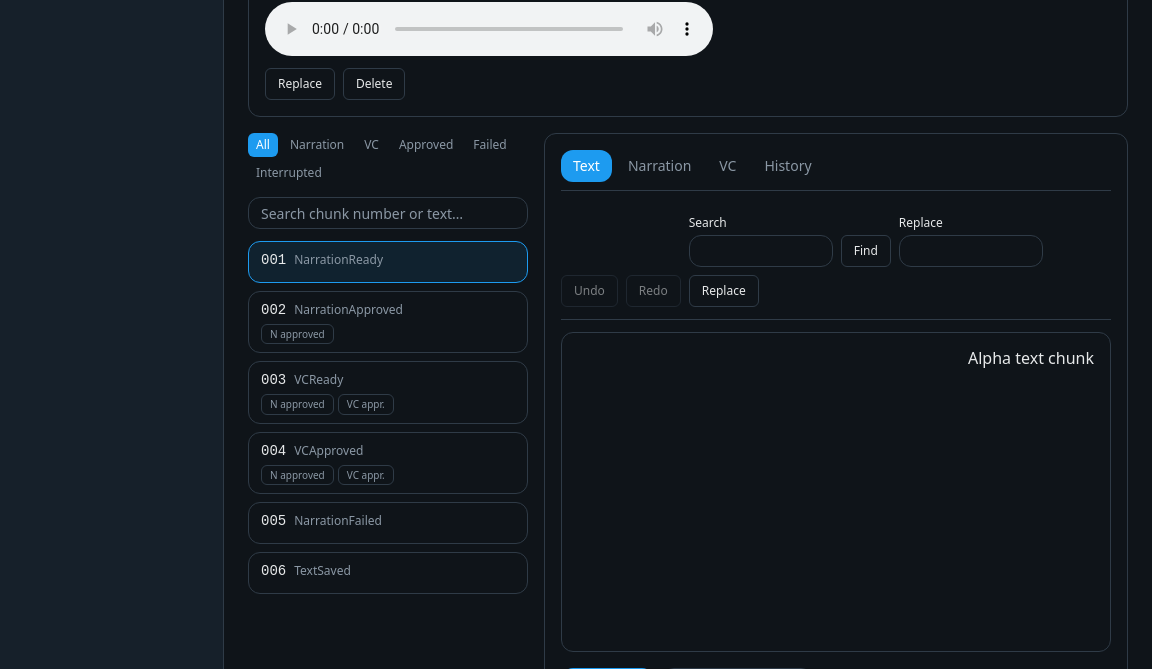
Scenario: E9.2-A Reference Voice › enables VC queue when reference present and narration approved
(page scrolled)
Click the button with test id "chunk-row-2".
click(349, 310)  # box [248, 291, 528, 353]
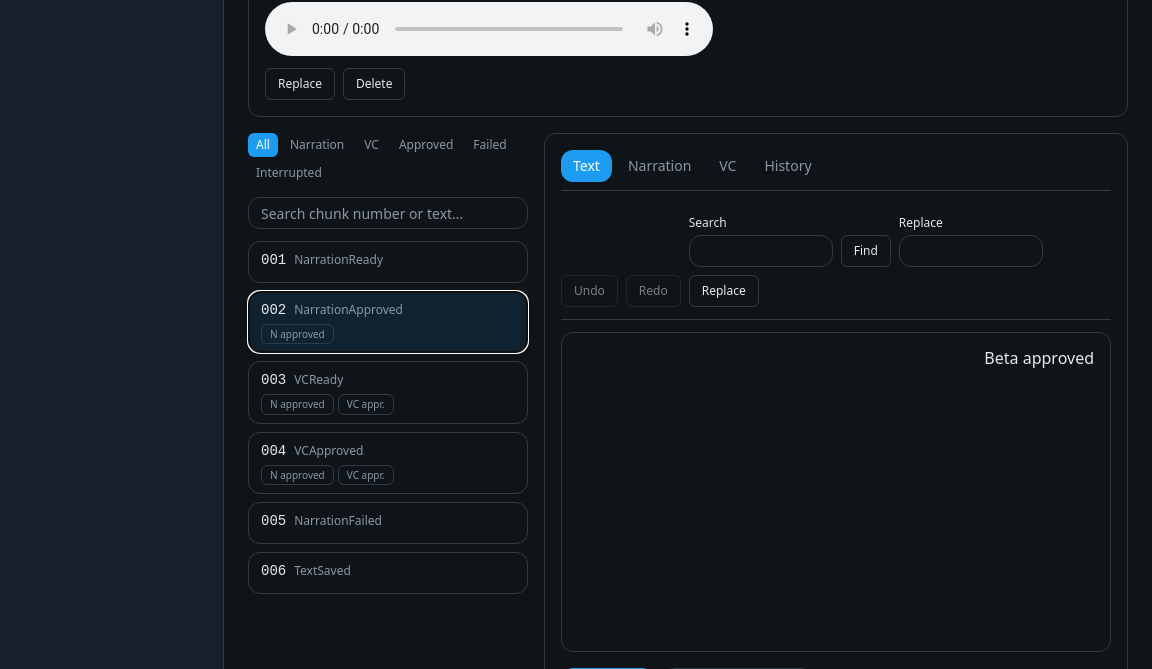
Click the tab "VC".
click(728, 166)  # box [707, 150, 748, 182]
(page scrolled)
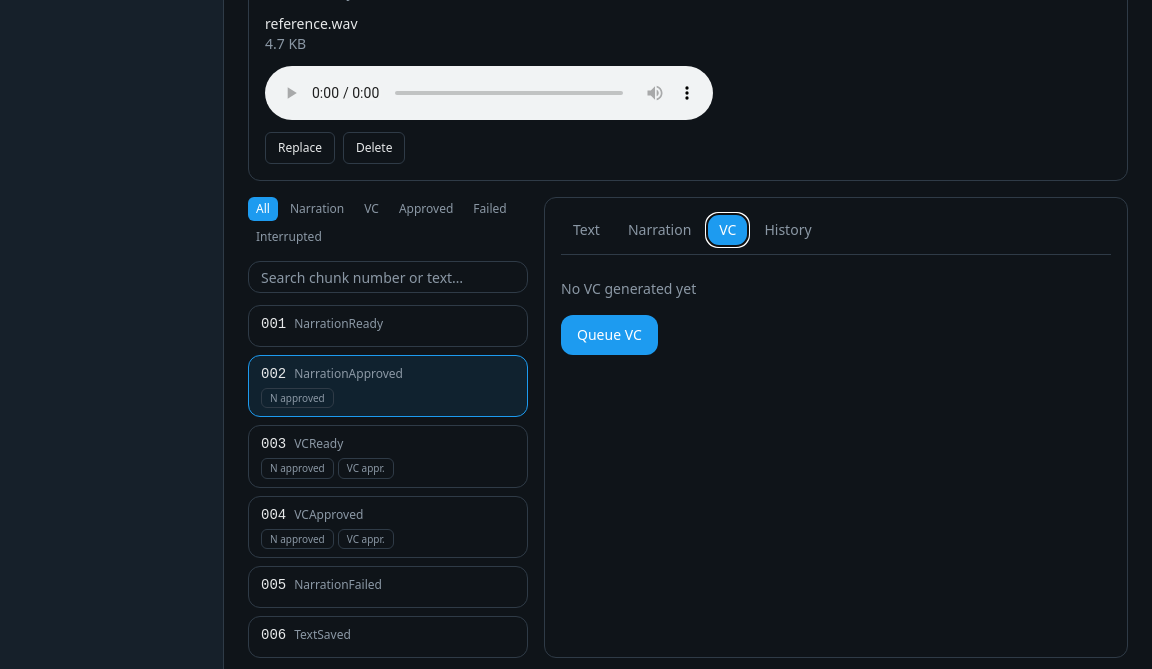
Result: the button "Queue VC" is enabled at [561, 315, 658, 355]
